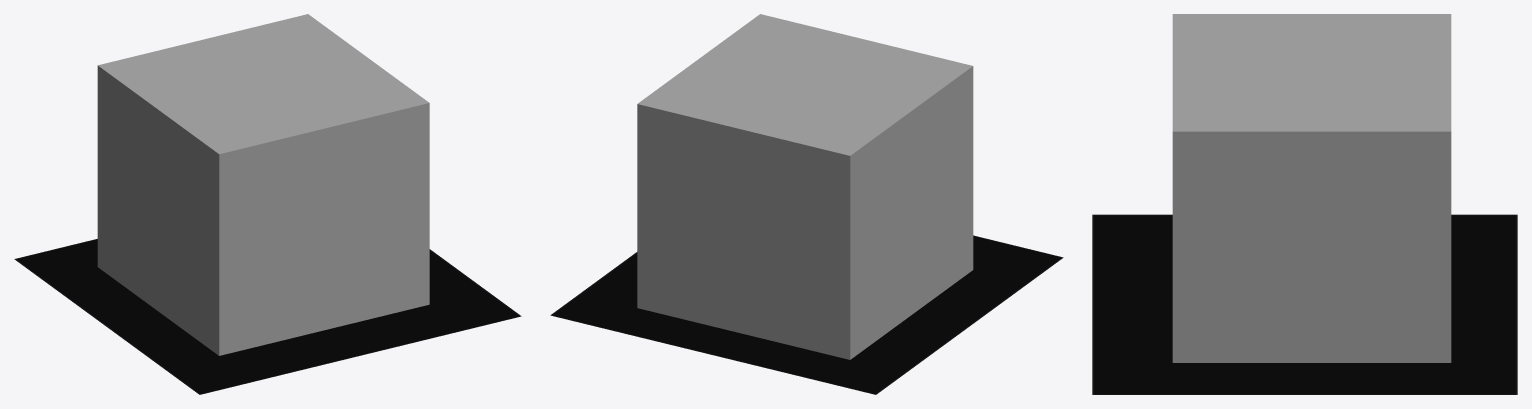
Rendered from cog_nation_crate.fbx.
3 views of the same model, side by side, from view 1: azimuth 30°, elevation 25°; view 2: azimuth 150°, elevation 25°; view 3: azimuth 270°, elevation 25° (orthographic). The views are drawn at different scales.
Visible parts, largest first — view 1: wall, floor, CBWoodBoxShadow; view 2: wall, floor, CBWoodBoxShadow; view 3: wall, CBWoodBoxShadow, floor.
Boxes of the visible parts, x1,y1,x2,y2 form: wall: [97, 65, 429, 355]; floor: [98, 14, 429, 154]; CBWoodBoxShadow: [14, 239, 521, 394]; wall: [637, 66, 973, 359]; floor: [638, 14, 972, 155]; CBWoodBoxShadow: [550, 235, 1063, 394]; wall: [1172, 131, 1451, 362]; CBWoodBoxShadow: [1092, 214, 1517, 394]; floor: [1172, 14, 1451, 131].
Bounding box in the file's own units: 9.18 × 5.5 × 9.16.
3 materials, 2 textured.
